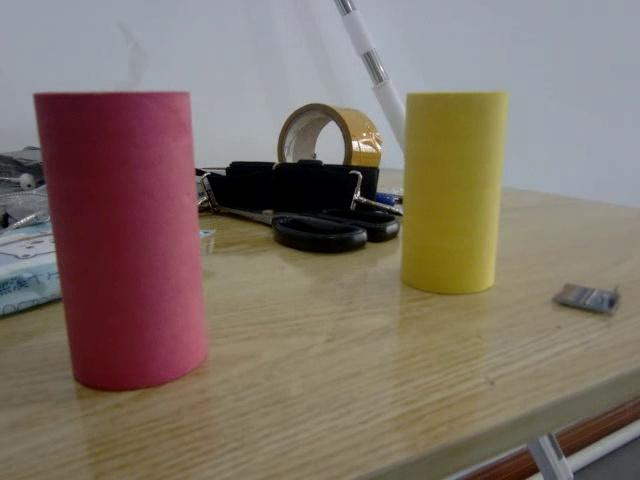red_cylinder: (30, 83, 221, 391)
yellow_cylinder: (402, 82, 502, 298)
